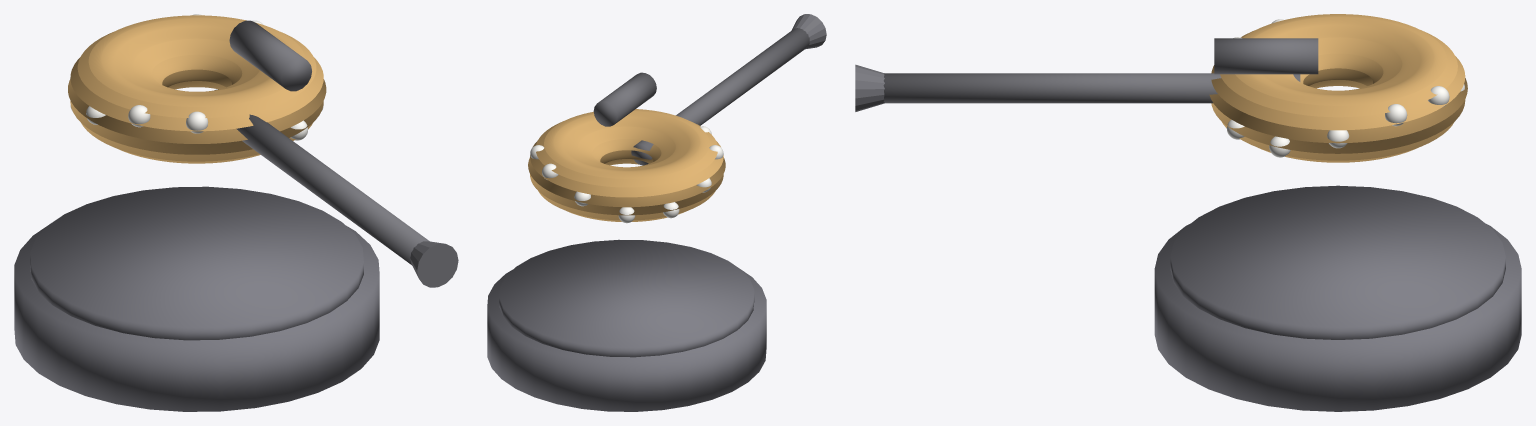
File: Pretzel.glb
3 views of the same model, side by side, from view 1: azimuth 30°, elevation 25°; view 2: azimuth 150°, elevation 25°; view 3: azimuth 270°, elevation 25° (orthographic). The views are drawn at different scales.
Parts seen in each view (by area): view 1: Pretzel_rim, Pretzel_pedestal, Pretzel_ring, Pretzel_barrel, Pretzel_scope, Pretzel_muzzle; view 2: Pretzel_rim, Pretzel_pedestal, Pretzel_ring, Pretzel_barrel, Pretzel_scope, Pretzel_muzzle; view 3: Pretzel_rim, Pretzel_pedestal, Pretzel_ring, Pretzel_barrel, Pretzel_scope, Pretzel_muzzle.
Part boxes in pixels (x1,y1,x2,y2): Pretzel_rim: (30, 186, 363, 340); Pretzel_pedestal: (14, 225, 379, 411); Pretzel_ring: (68, 15, 326, 163); Pretzel_barrel: (215, 89, 429, 264); Pretzel_scope: (229, 20, 311, 91); Pretzel_muzzle: (410, 241, 458, 287); Pretzel_rim: (499, 239, 754, 357); Pretzel_pedestal: (487, 269, 766, 411); Pretzel_ring: (528, 109, 725, 221); Pretzel_barrel: (631, 28, 809, 165); Pretzel_scope: (593, 72, 656, 126); Pretzel_muzzle: (791, 14, 826, 49); Pretzel_rim: (1170, 185, 1505, 339); Pretzel_pedestal: (1154, 223, 1521, 411); Pretzel_ring: (1209, 14, 1467, 162); Pretzel_barrel: (883, 73, 1300, 103); Pretzel_scope: (1214, 38, 1318, 74); Pretzel_muzzle: (855, 64, 884, 111).
Bounding box in the file's own units: 0.92 × 0.865 × 1.67.
